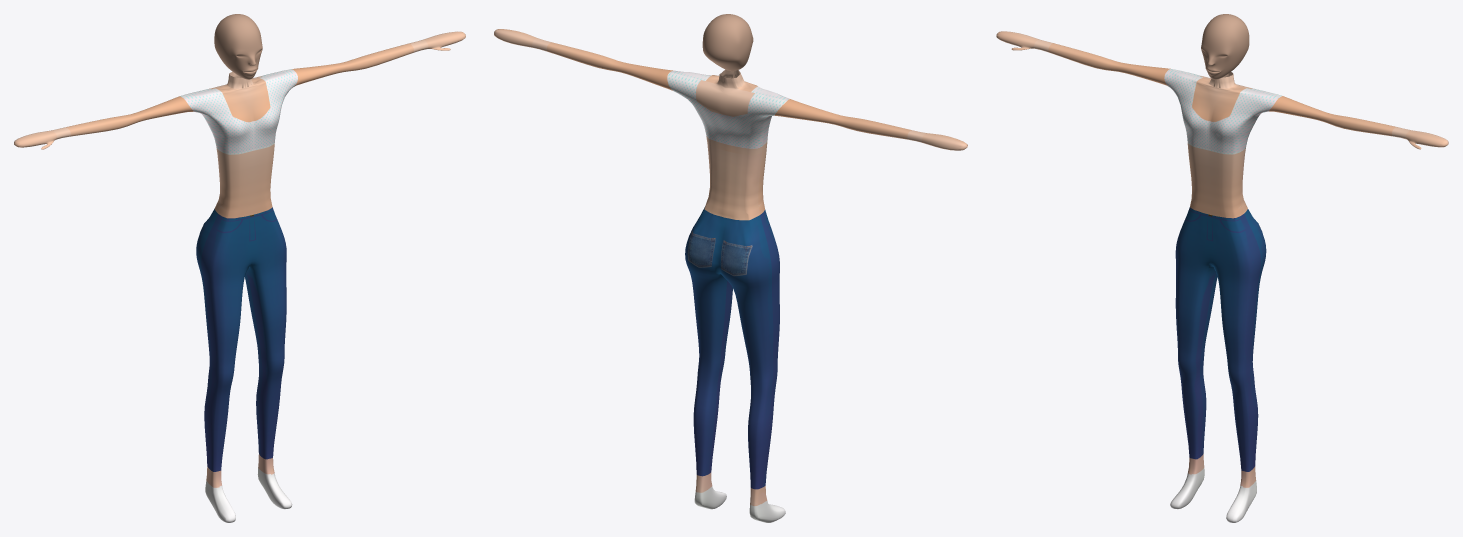
The model's file is CharacterForWeb.glb.
3 views of the same model, side by side, from view 1: azimuth 30°, elevation 25°; view 2: azimuth 150°, elevation 25°; view 3: azimuth 330°, elevation 25° (orthographic). The views are drawn at different scales.
Parts seen in each view (by area): view 1: Cube.002, Head.001; view 2: Cube.002, Head.001; view 3: Cube.002, Head.001.
Part boxes in pixels (box(x1,y1,x2,y2)): Cube.002: box(14, 31, 465, 522); Head.001: box(214, 14, 262, 79); Cube.002: box(494, 29, 967, 522); Head.001: box(702, 14, 753, 71); Cube.002: box(996, 31, 1448, 522); Head.001: box(1201, 14, 1249, 79).
Size of the model in its own units: 5.12 by 5.25 by 0.7143.
2 materials, 1 textured.
